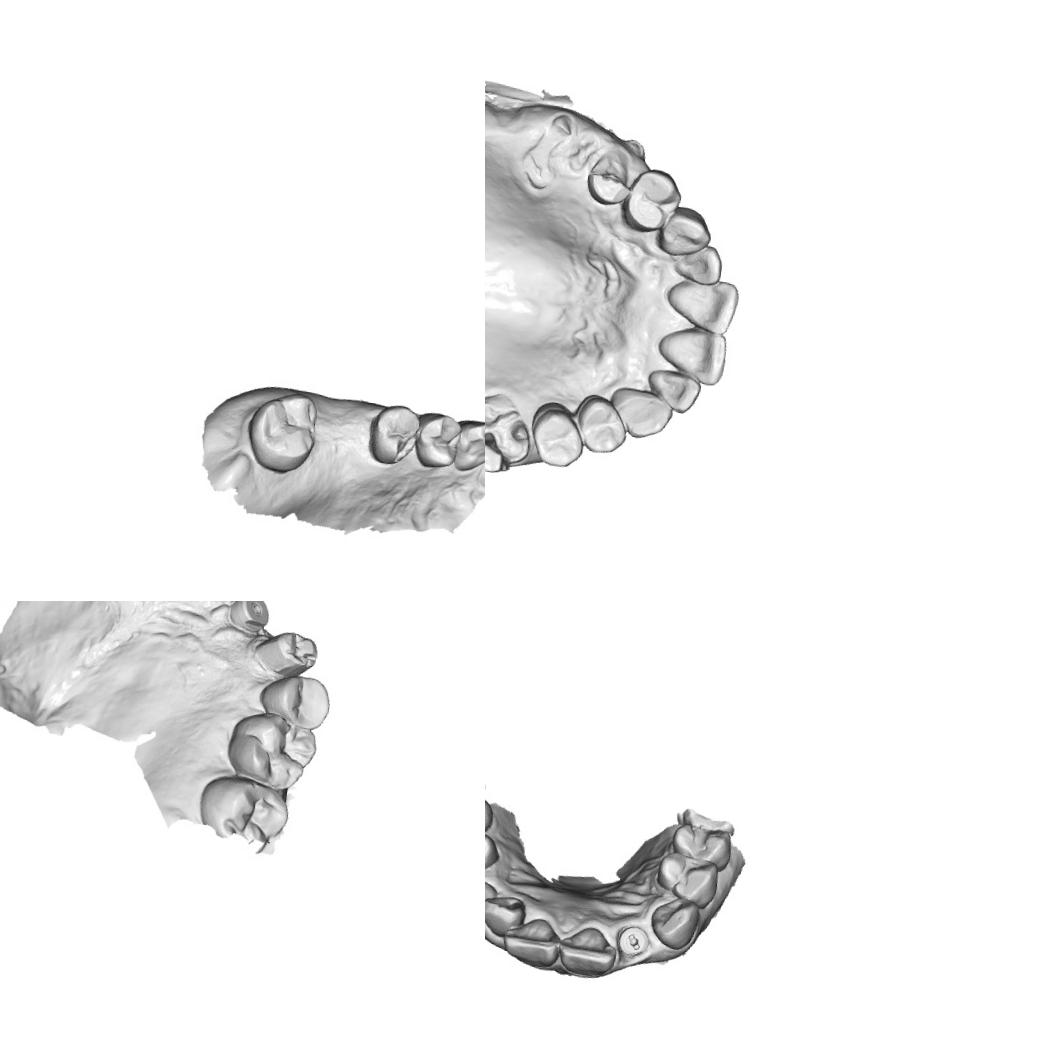canine: (605, 374, 679, 443), (655, 203, 715, 261), (646, 893, 702, 952), (447, 416, 485, 477), (485, 870, 499, 929)
crown: (247, 624, 328, 684)
implant: (221, 601, 274, 639)
implant_minus: (614, 923, 652, 960)
incisor: (662, 269, 742, 337), (652, 322, 731, 390), (555, 922, 620, 980), (500, 913, 564, 970), (645, 362, 704, 413), (670, 241, 725, 288), (485, 891, 528, 941)
molar: (222, 705, 322, 797), (239, 384, 324, 479), (192, 768, 294, 842), (485, 388, 537, 483)
premolar: (252, 669, 338, 735), (618, 164, 686, 238), (526, 398, 589, 472), (652, 848, 722, 912), (362, 398, 425, 469), (574, 392, 632, 457), (667, 820, 735, 874), (410, 408, 464, 472), (582, 152, 634, 208), (485, 826, 501, 890)
